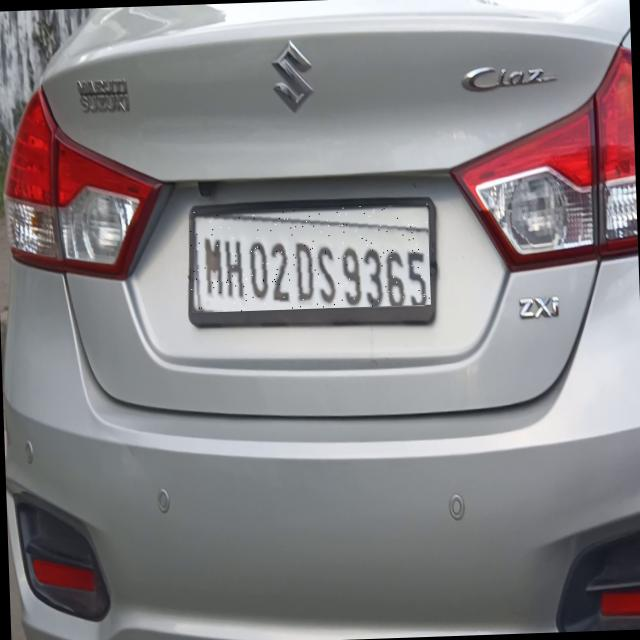Plate: (190, 205, 432, 314)
